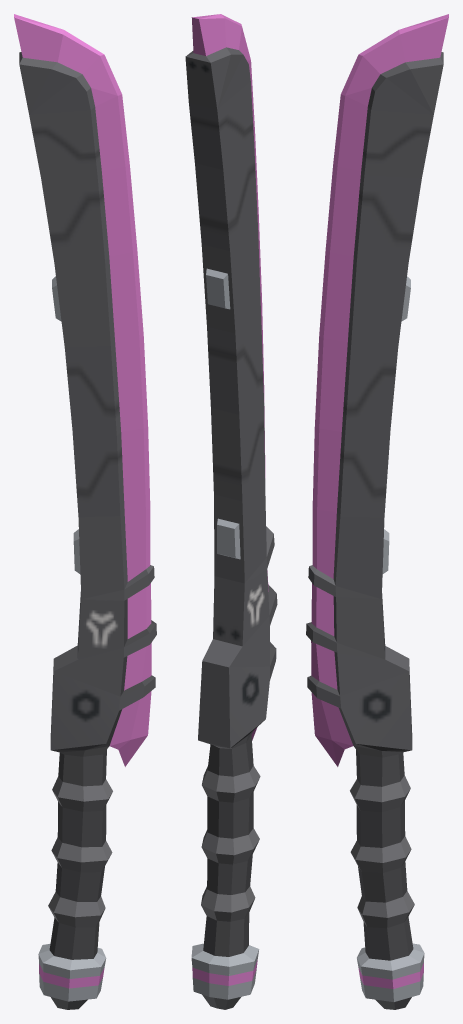
File: SM_Wep_Sword_03.fbx
The picture shows the model from 3 angles, left to right: view 1: azimuth 90°, elevation 25°; view 2: azimuth 150°, elevation 25°; view 3: azimuth 270°, elevation 25°; orthographic projection.
Visible parts, largest first — view 1: SM_Wep_Sword_03; view 2: SM_Wep_Sword_03; view 3: SM_Wep_Sword_03.
Part boxes in pixels (left/top/right/bottom): SM_Wep_Sword_03: left=14, top=14, right=156, bottom=1009; SM_Wep_Sword_03: left=185, top=14, right=277, bottom=1009; SM_Wep_Sword_03: left=306, top=14, right=448, bottom=1009.
Size of the model in its own units: 9.49 by 146 by 19.15.
